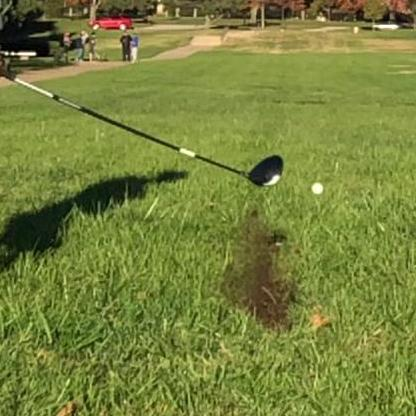golfball: (308, 178, 322, 193)
